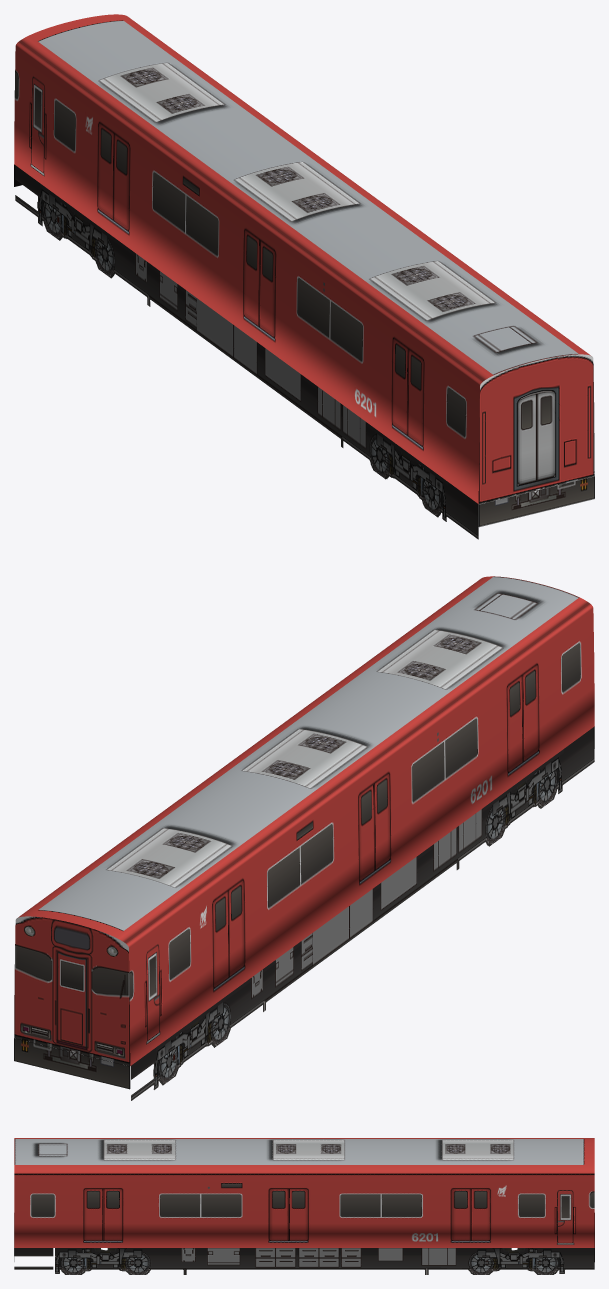
Rendered from car2.glb.
3 views of the same model, one above another, from view 1: azimuth 30°, elevation 25°; view 2: azimuth 150°, elevation 25°; view 3: azimuth 270°, elevation 25° (orthographic). The views are drawn at different scales.
Visible parts, largest first — view 1: meitetsu6000-car2; view 2: meitetsu6000-car2; view 3: meitetsu6000-car2.
Part boxes in pixels (x1,y1,x2,y2): meitetsu6000-car2: (14, 14, 594, 539); meitetsu6000-car2: (14, 576, 594, 1100); meitetsu6000-car2: (14, 1138, 594, 1274).
Bounding box in the file's own units: 2.73 × 3.88 × 18.98.
Materials: 8 (7 with a texture image).
